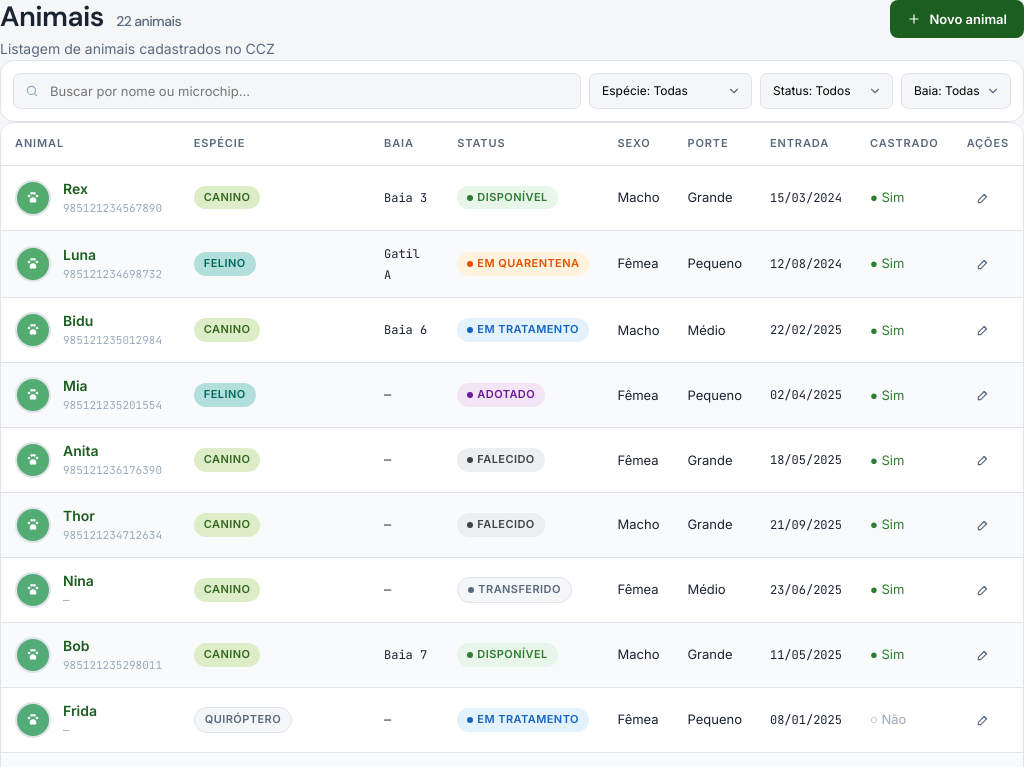
Test: Animais › filtra por espécie
Expected: the link "Rex" is shown, [63, 180, 88, 197]
Select "Felino" in the dropdown named "filtrar por espécie" at (670, 91), box [589, 73, 752, 109]
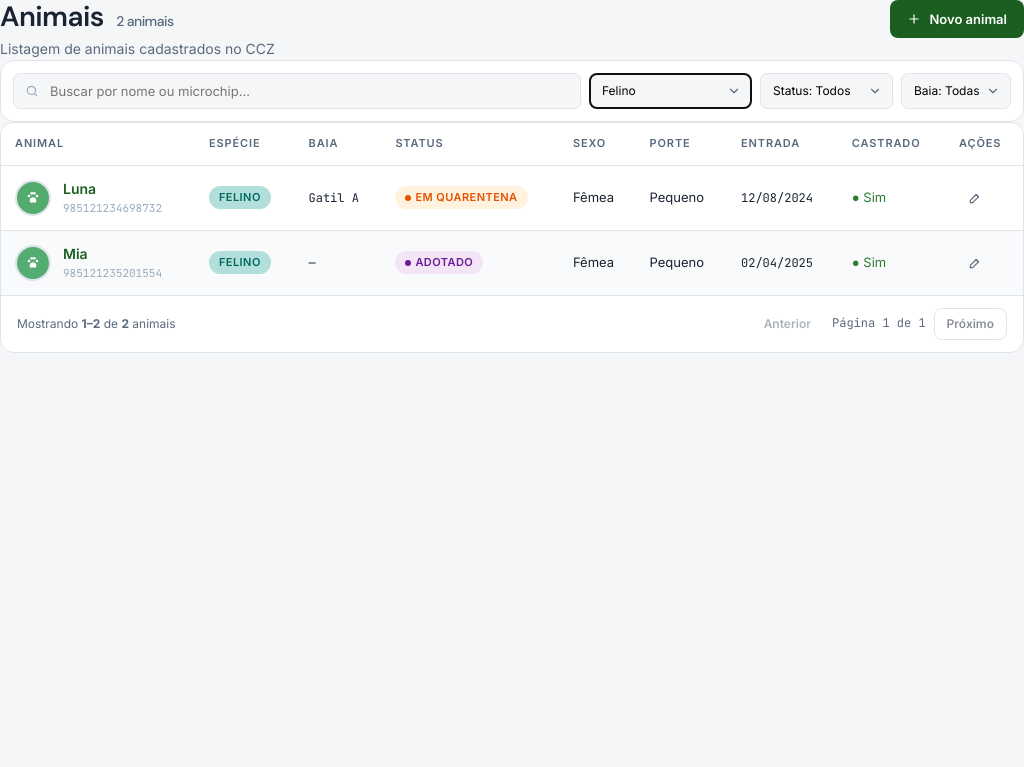
Expected: the link "Luna" is shown, [63, 180, 96, 197]
Now the link "Rex" is gone
